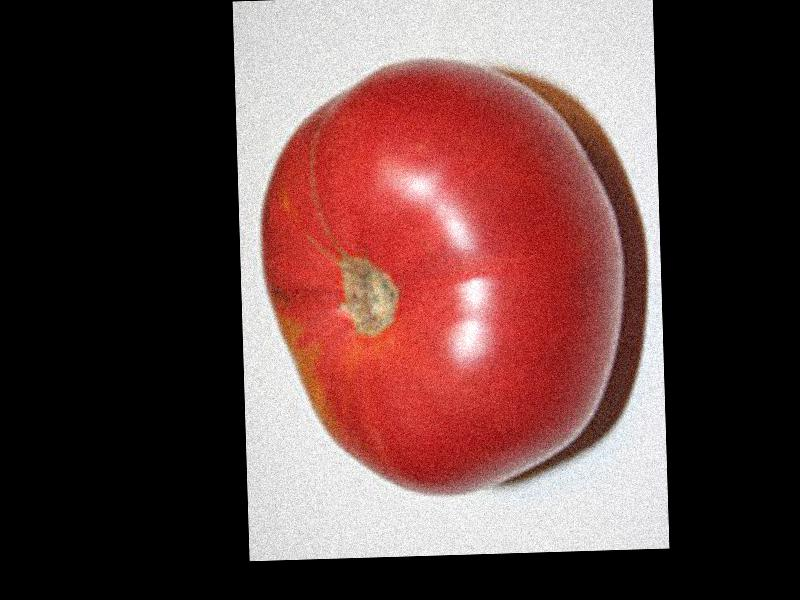Tomato: (251, 52, 620, 503)
